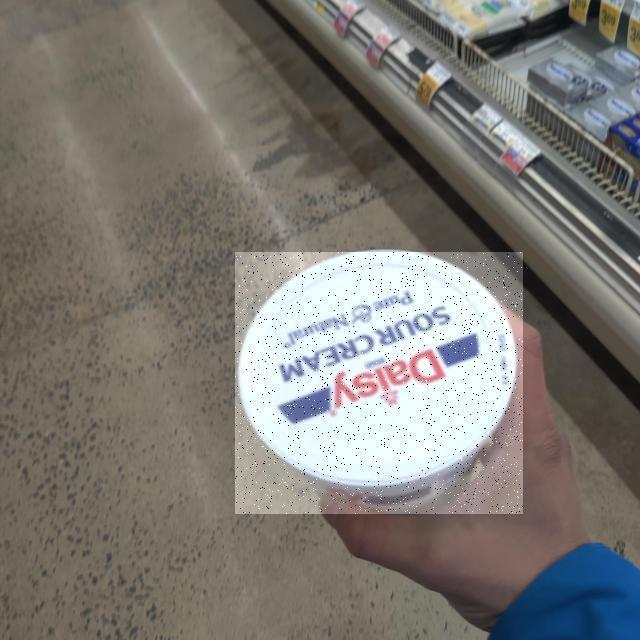Yoghurt: (235, 252, 523, 514)
